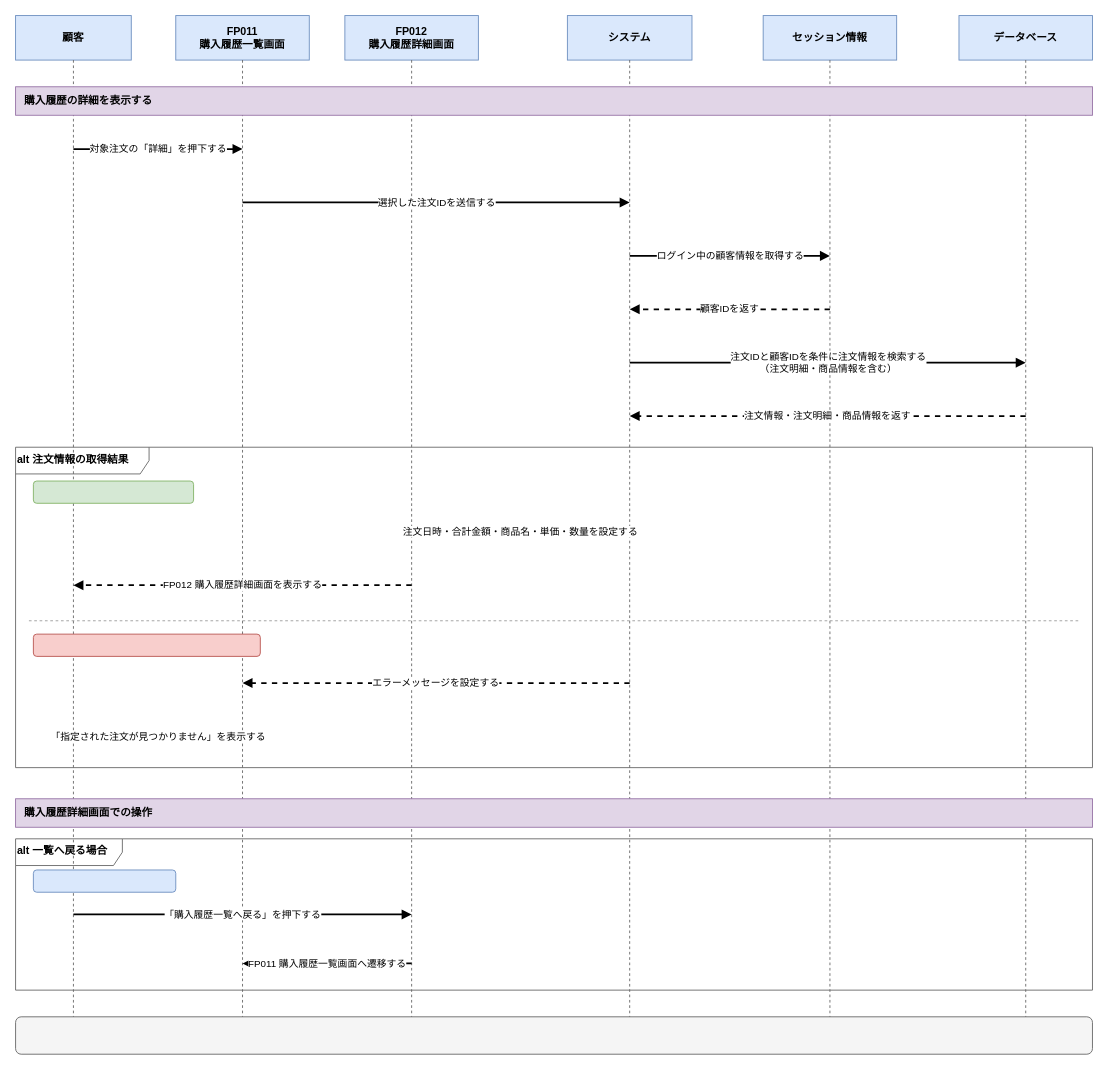
Image size: 1108x1070. Some labels were removed from this diagram. Each missing label, with the centre of its shape:
"本人の注文が存在する場合" goes at point (113, 491).
"注文が存在しない／他顧客の注文の場合" goes at point (146, 644).
"補足：注文IDとログイン中の顧客IDを併せて確認し、他顧客の注文内容は表示しない。" goes at point (553, 1035).
"購入履歴一覧へ戻る" goes at point (104, 880).
